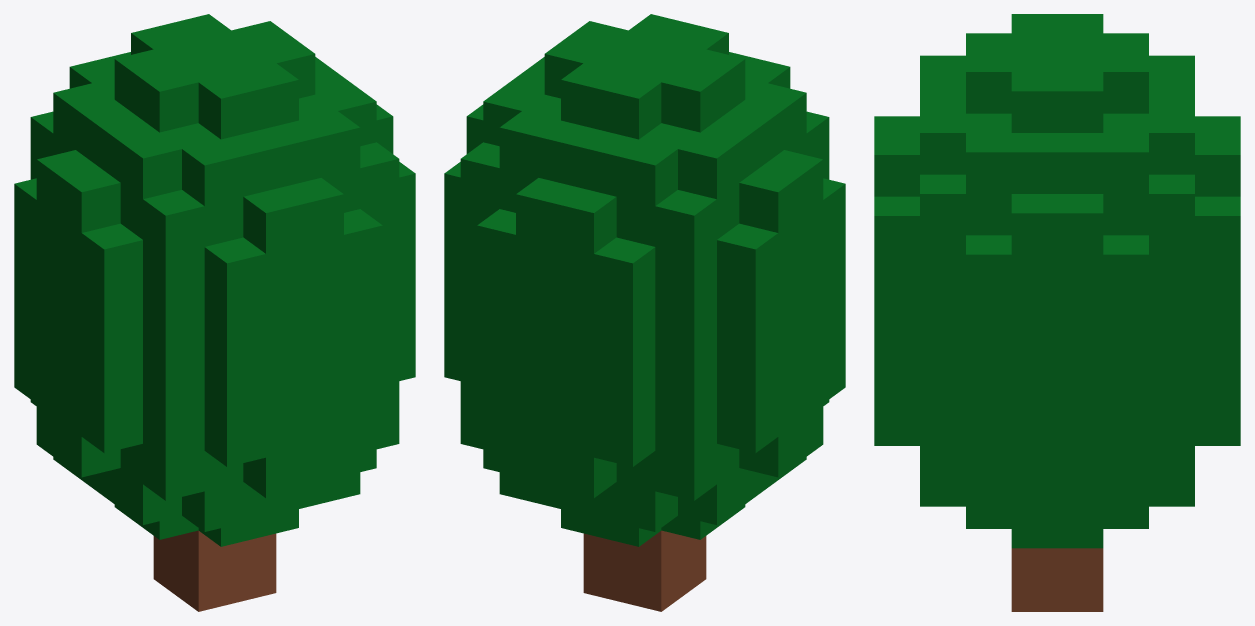
File: tree-4.gltf
3 views of the same model, side by side, from view 1: azimuth 30°, elevation 25°; view 2: azimuth 150°, elevation 25°; view 3: azimuth 270°, elevation 25° (orthographic).
Visible parts, largest first — view 1: tree-4; view 2: tree-4; view 3: tree-4.
Part boxes in pixels (x1=…): tree-4: x1=14, y1=14, x2=415, y2=611; tree-4: x1=444, y1=14, x2=845, y2=611; tree-4: x1=874, y1=14, x2=1240, y2=611.
Size of the model in its own units: 0.8 by 1.3 by 0.8.
Materials: 1 (1 with a texture image).
